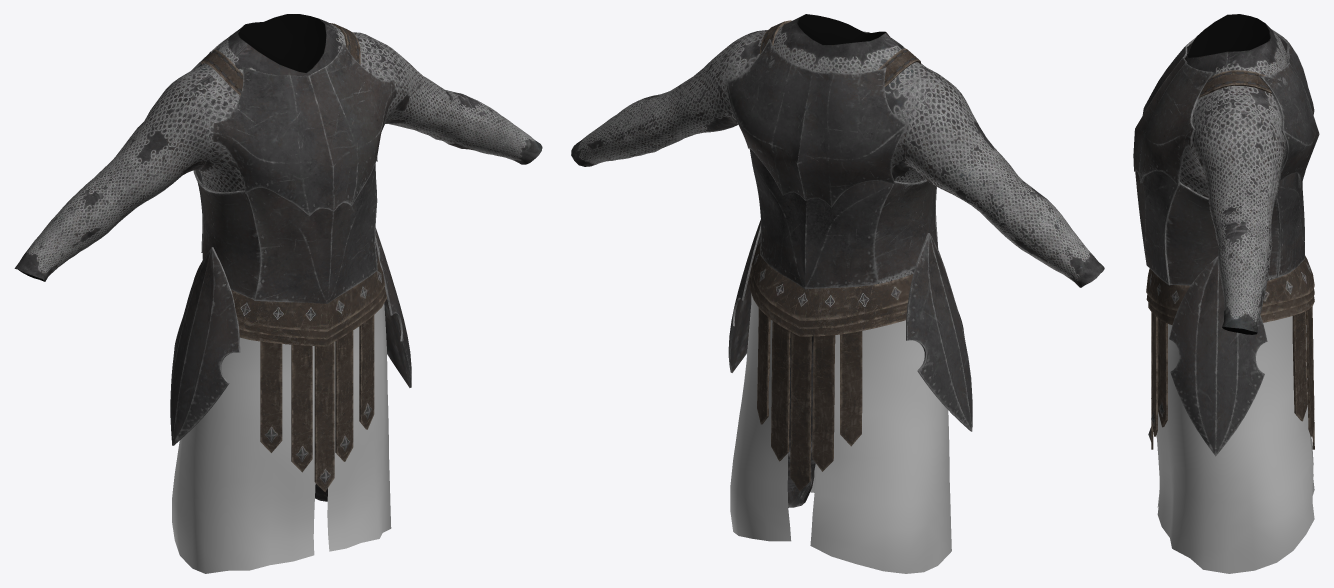
Rendered from sk_uruk_mordor_chainmail_heavy_d2.fbx.
The picture shows the model from 3 angles, left to right: view 1: azimuth 30°, elevation 25°; view 2: azimuth 150°, elevation 25°; view 3: azimuth 270°, elevation 25°; orthographic projection. The views are drawn at different scales.
Visible parts, largest first — view 1: sk_uruk_mordor_chainmail_heavy_d2.4, sk_uruk_mordor_chainmail_heavy_d2.2, sk_uruk_mordor_chainmail_heavy_d2.0, sk_uruk_mordor_chainmail_heavy_d2.1, sk_uruk_mordor_chainmail_heavy_d2.3; view 2: sk_uruk_mordor_chainmail_heavy_d2.4, sk_uruk_mordor_chainmail_heavy_d2.0, sk_uruk_mordor_chainmail_heavy_d2.2, sk_uruk_mordor_chainmail_heavy_d2.1, sk_uruk_mordor_chainmail_heavy_d2.3; view 3: sk_uruk_mordor_chainmail_heavy_d2.2, sk_uruk_mordor_chainmail_heavy_d2.0, sk_uruk_mordor_chainmail_heavy_d2.4, sk_uruk_mordor_chainmail_heavy_d2.3, sk_uruk_mordor_chainmail_heavy_d2.1.
Part boxes in pixels (box(x1,y1,x2,y2)): sk_uruk_mordor_chainmail_heavy_d2.4: box(191, 39, 396, 303); sk_uruk_mordor_chainmail_heavy_d2.2: box(172, 303, 391, 573); sk_uruk_mordor_chainmail_heavy_d2.0: box(14, 14, 542, 501); sk_uruk_mordor_chainmail_heavy_d2.1: box(193, 23, 386, 491); sk_uruk_mordor_chainmail_heavy_d2.3: box(170, 228, 411, 445); sk_uruk_mordor_chainmail_heavy_d2.4: box(726, 31, 938, 289); sk_uruk_mordor_chainmail_heavy_d2.0: box(571, 14, 1104, 507); sk_uruk_mordor_chainmail_heavy_d2.2: box(730, 293, 951, 573); sk_uruk_mordor_chainmail_heavy_d2.1: box(749, 20, 920, 491); sk_uruk_mordor_chainmail_heavy_d2.3: box(728, 219, 972, 431); sk_uruk_mordor_chainmail_heavy_d2.2: box(1156, 316, 1314, 573); sk_uruk_mordor_chainmail_heavy_d2.0: box(1180, 14, 1287, 334); sk_uruk_mordor_chainmail_heavy_d2.4: box(1133, 29, 1319, 285); sk_uruk_mordor_chainmail_heavy_d2.3: box(1169, 256, 1267, 456); sk_uruk_mordor_chainmail_heavy_d2.1: box(1146, 70, 1314, 449).
Size of the model in its own units: 1.37 by 0.4386 by 1.29.
